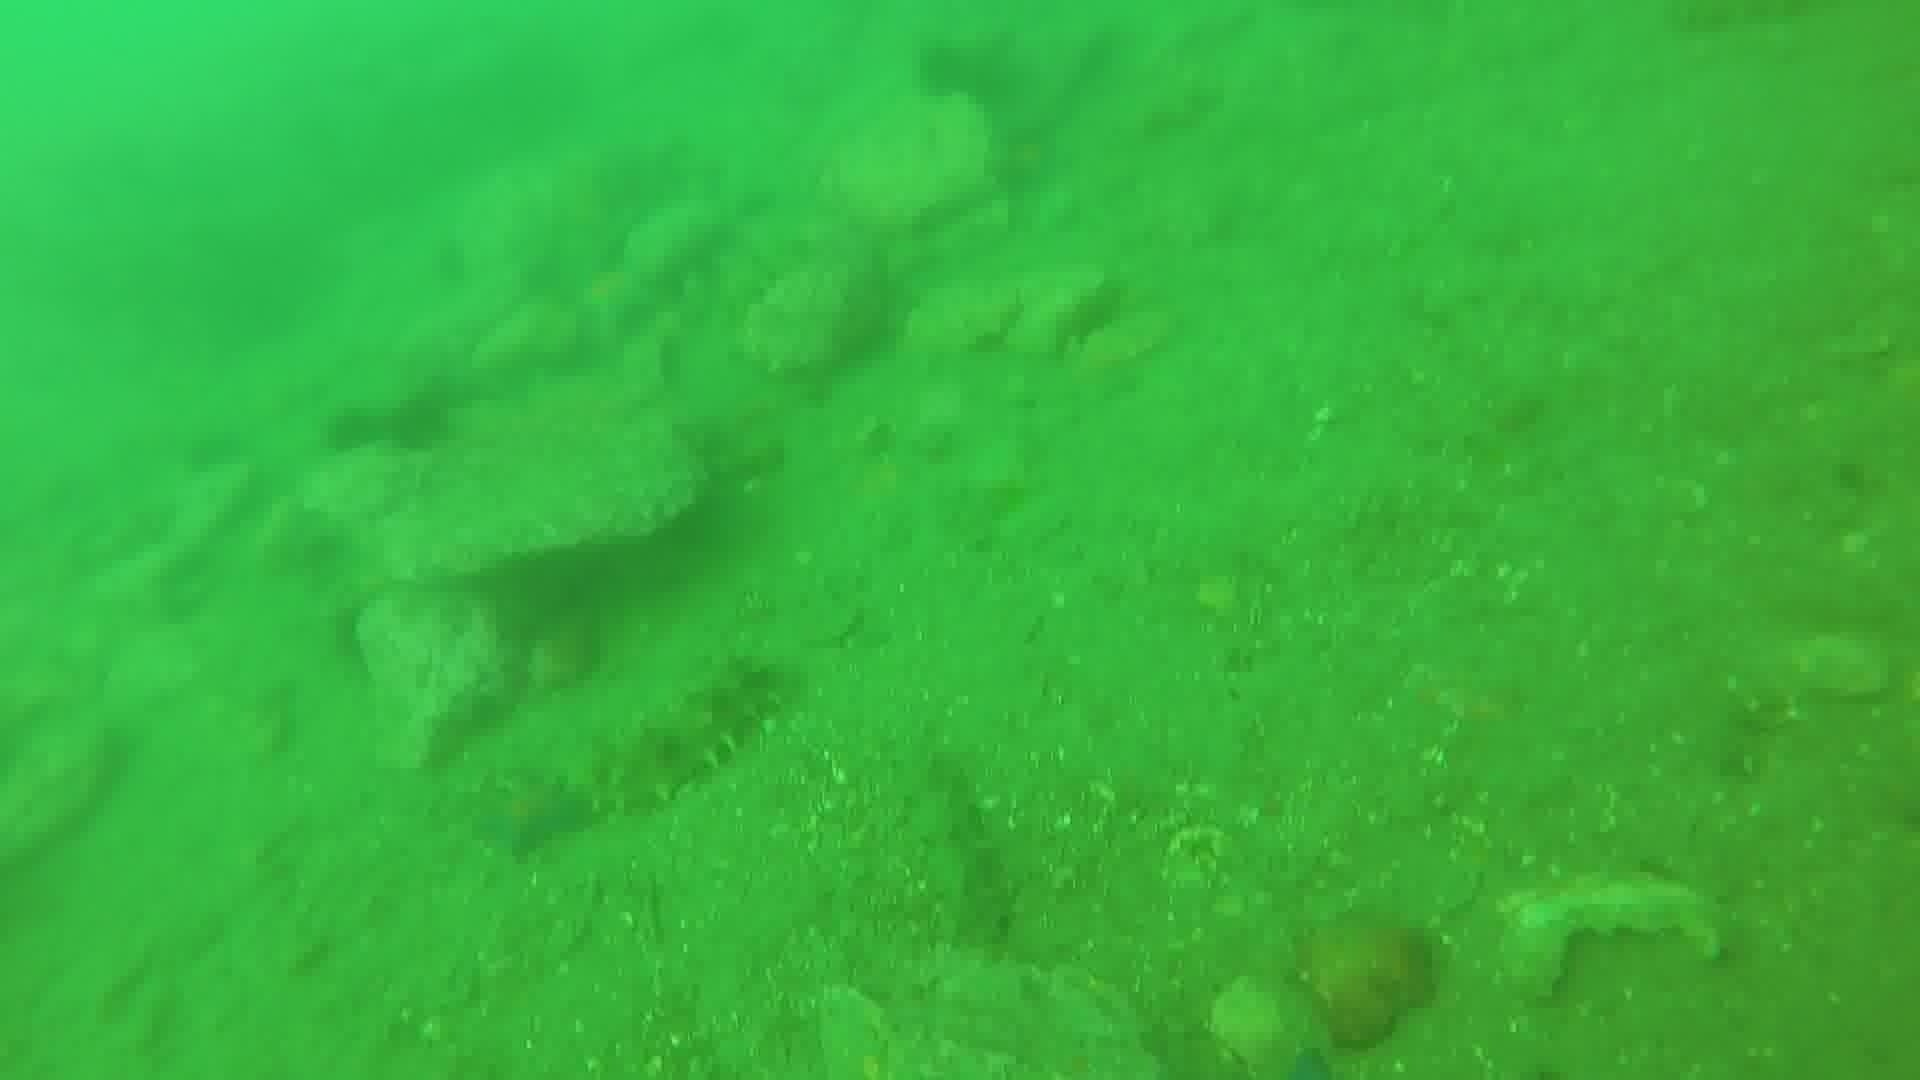echinus: (378, 386, 460, 458)
holothurian: (580, 651, 796, 822), (899, 752, 1022, 964)
starfish: (463, 767, 599, 862), (556, 251, 669, 349)
